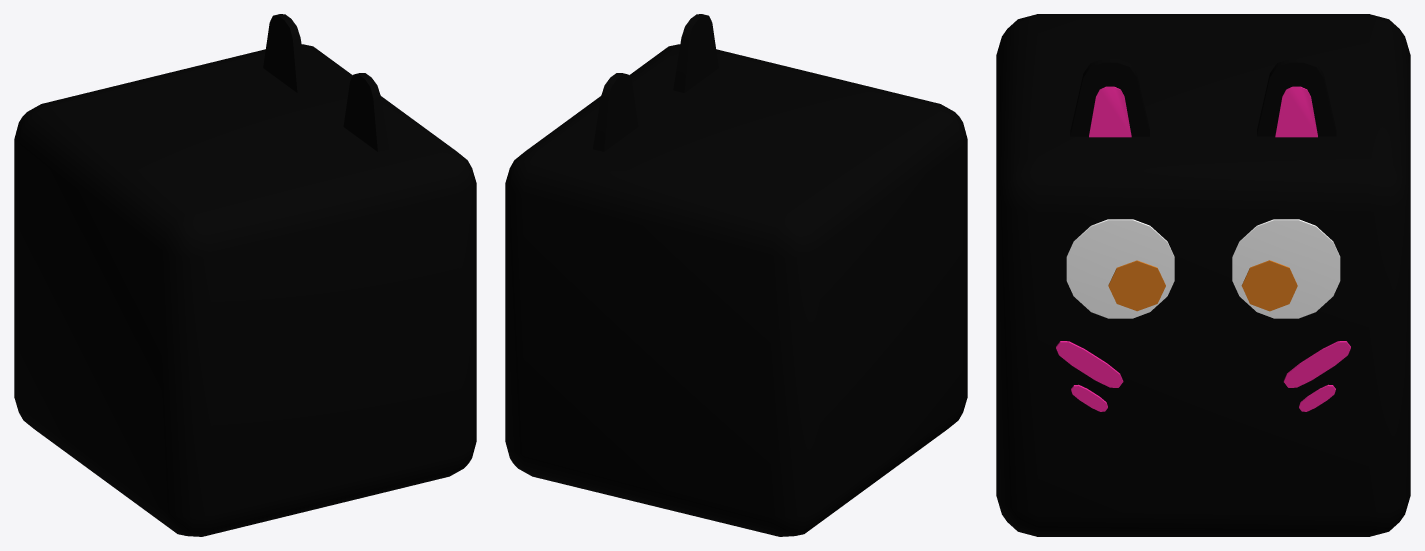
Rendered from cat.fbx.
3 renders of one model, left to right at view 1: azimuth 30°, elevation 25°; view 2: azimuth 150°, elevation 25°; view 3: azimuth 270°, elevation 25°, orthographic. The views are drawn at different scales.
Visible parts, largest first — view 1: Cube.001, Cube.004, Cube; view 2: Cube.001, Cube, Cube.004; view 3: Cube.001, Cylinder, Cylinder.003, Cube, Cube.004, Cylinder.002, Cylinder.001, Cube.002, Cube.003, Cube.005, Cube.008, Cube.006 (+1 smaller).
Part boxes in pixels (box(x1,y1,x2,y2)): Cube.001: box(14, 44, 476, 536); Cube.004: box(263, 14, 308, 92); Cube: box(343, 73, 388, 151); Cube.001: box(505, 44, 967, 536); Cube: box(673, 14, 718, 92); Cube.004: box(593, 73, 638, 151); Cube.001: box(996, 14, 1410, 536); Cylinder: box(1232, 219, 1340, 318); Cylinder.003: box(1066, 219, 1174, 318); Cube: box(1070, 59, 1149, 136); Cube.004: box(1257, 59, 1336, 136); Cylinder.002: box(1108, 260, 1165, 311); Cylinder.001: box(1241, 260, 1297, 311); Cube.002: box(1089, 86, 1131, 137); Cube.003: box(1275, 86, 1317, 137); Cube.005: box(1283, 341, 1350, 387); Cube.008: box(1056, 341, 1123, 387); Cube.006: box(1299, 384, 1335, 411).
Size of the model in its own units: 203 by 238 by 200.
